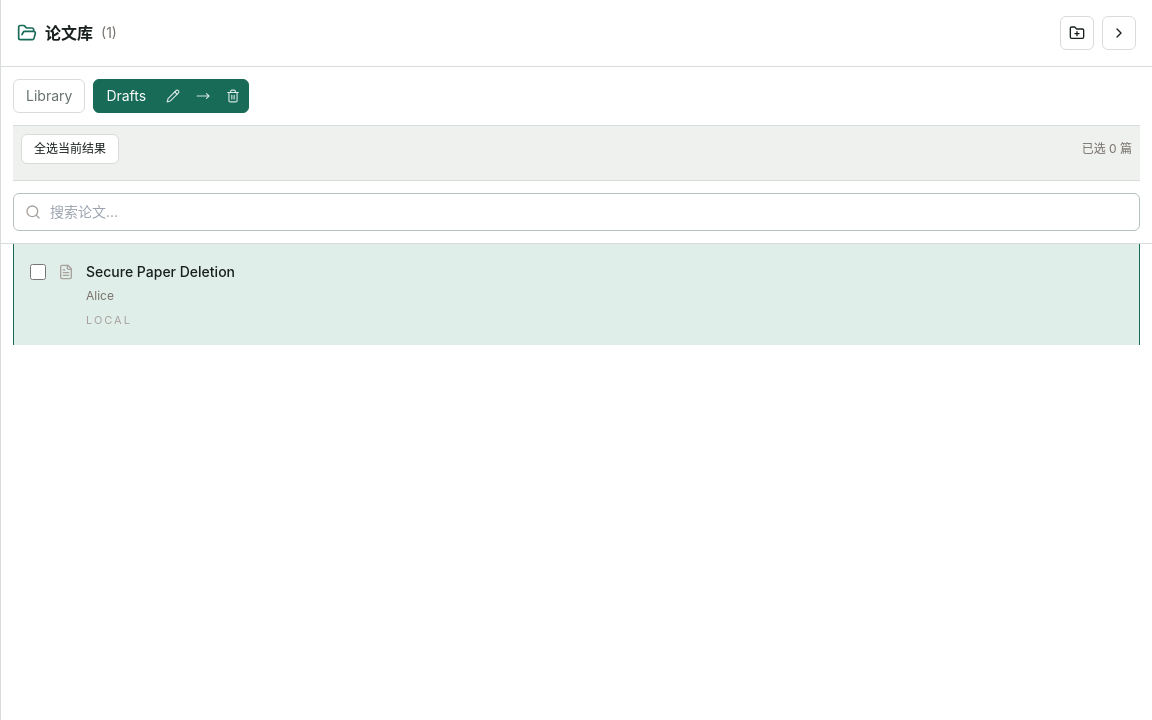
PaperListPanel › renames non-system folders and refreshes current papers
Click the button titled "重命名文件夹 Drafts".
click(173, 96)  # box [158,83,188,109]
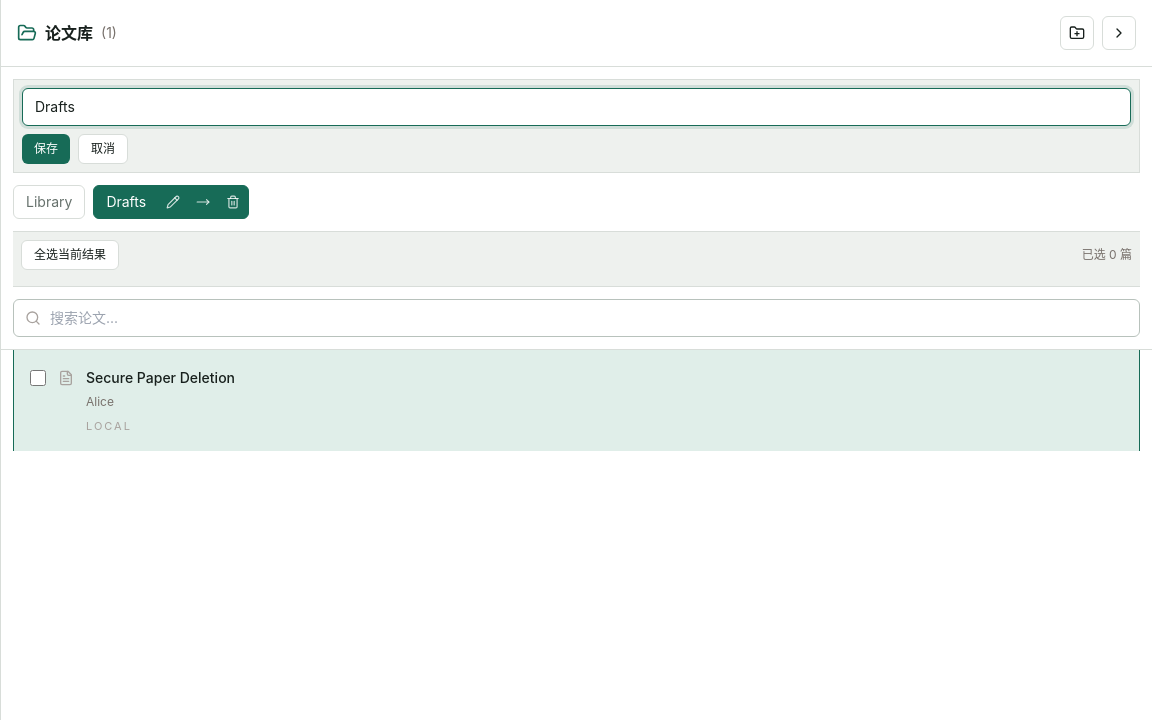
Replace the text in the field with placeholder "新的文件夹名称" with "Renamed" at point(576, 107), box [22,88,1131,126]
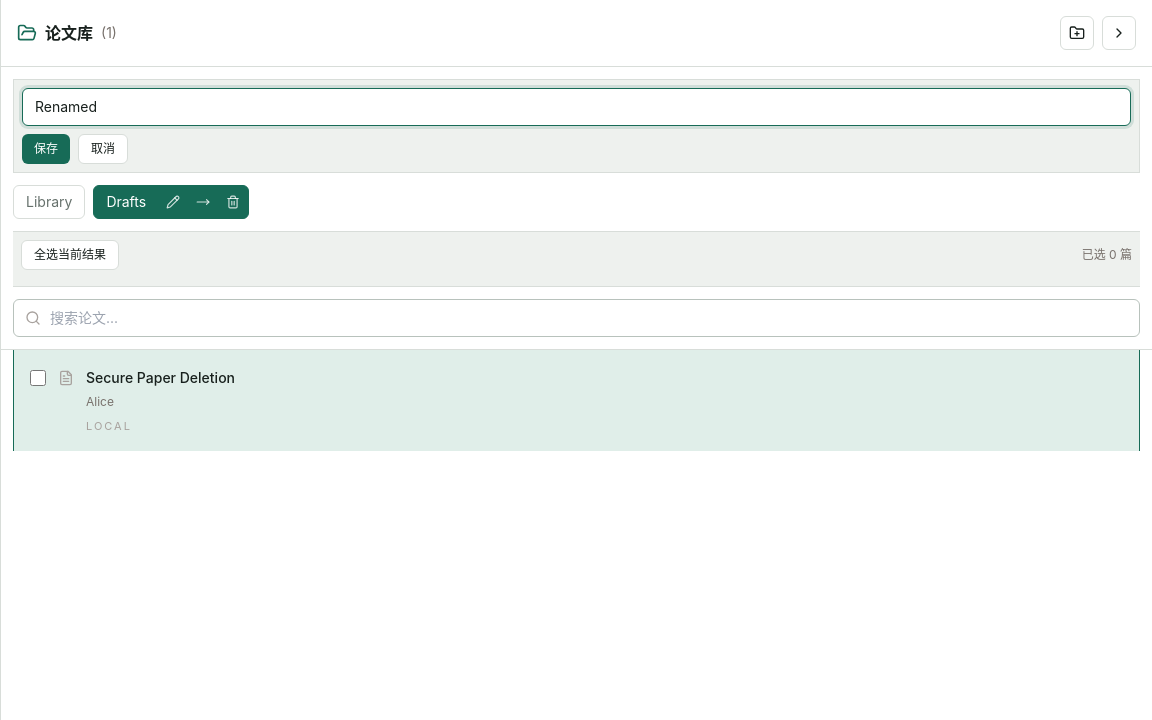
Click the button "保存".
click(46, 149)  # box [22,134,70,164]
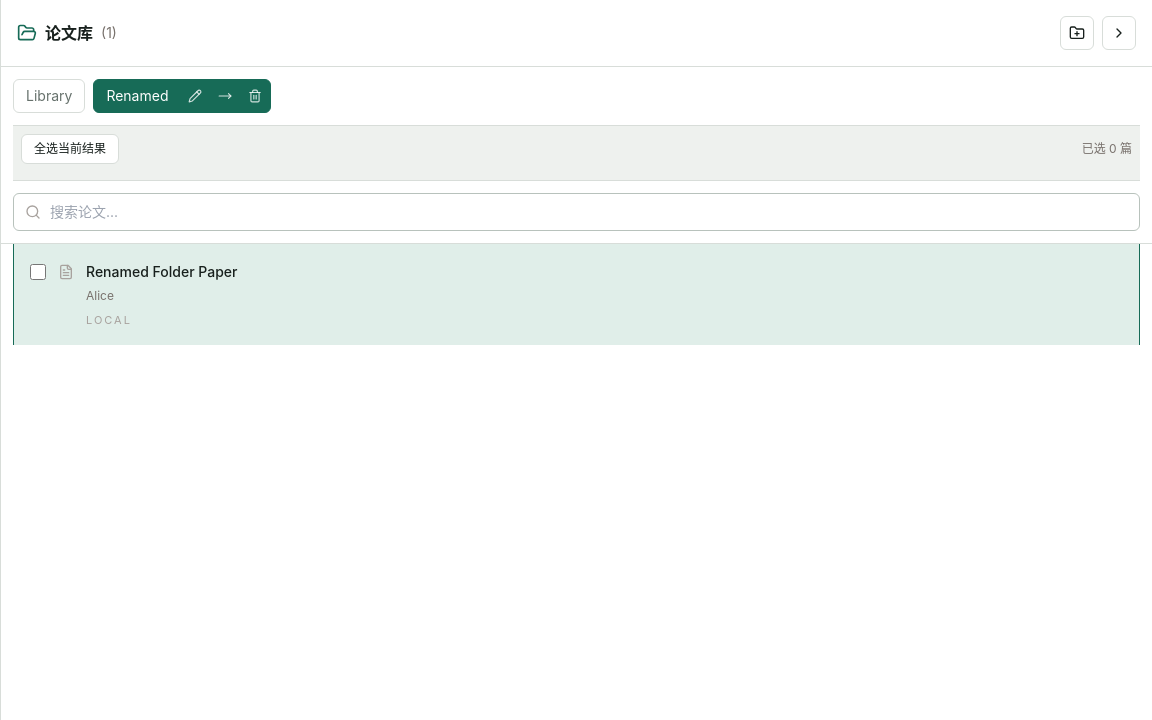
Now the button "Renamed" is shown, box [94,80,180,112]
Now the text "Renamed Folder Paper" is shown, box [86,263,237,280]
